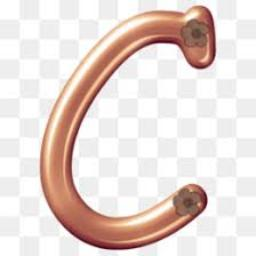c: (36, 0, 238, 250)
